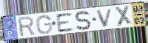E: (55, 11, 76, 33)
G: (36, 14, 54, 35)
R: (16, 16, 37, 38)
S: (75, 10, 92, 31)
V: (96, 8, 114, 29)
X: (114, 4, 133, 28)
